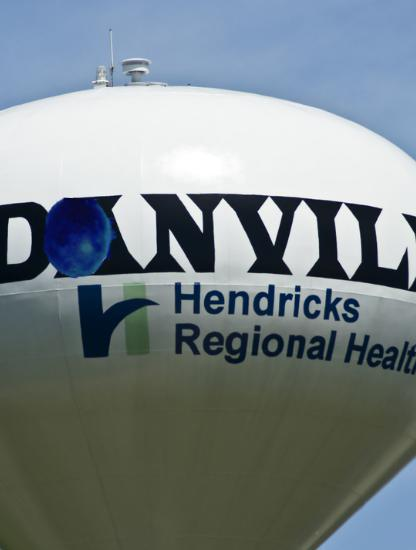Huckleberry: (40, 198, 121, 279)
